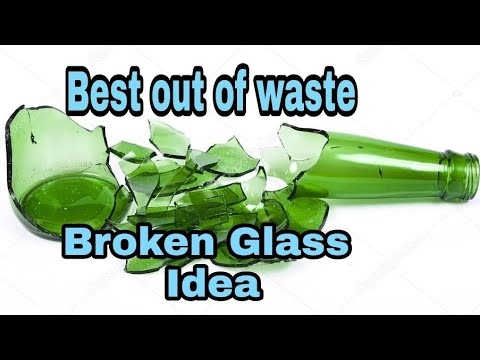glass: (3, 103, 139, 243), (273, 121, 480, 209), (260, 179, 340, 238), (202, 132, 264, 176), (123, 158, 167, 216), (144, 112, 199, 158), (173, 182, 250, 205), (110, 136, 162, 166), (183, 142, 219, 176)
